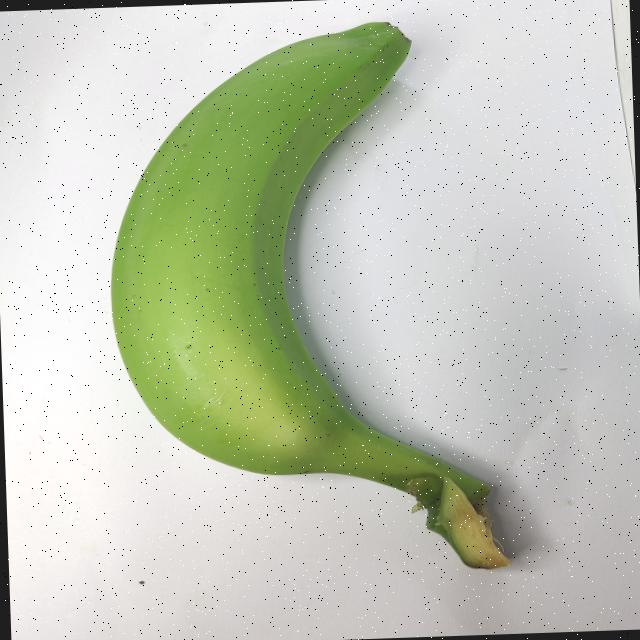Raw: (90, 1, 569, 606)
